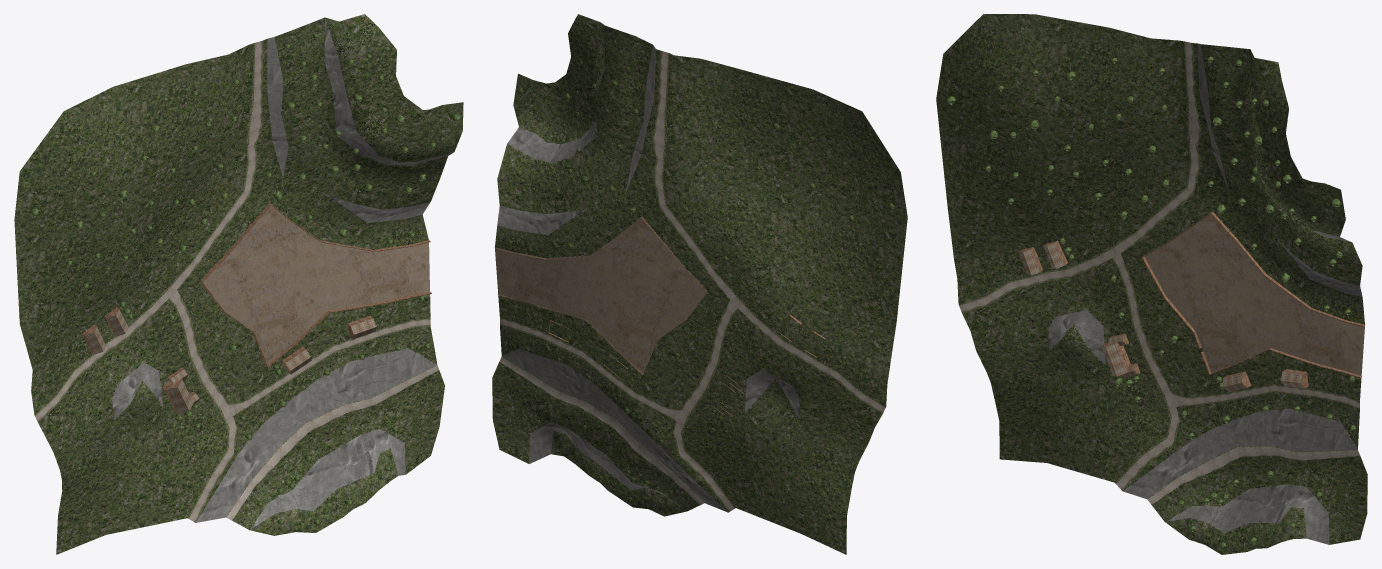
File: landscape.glb
3 renders of one model, left to right at view 1: azimuth 30°, elevation 25°; view 2: azimuth 150°, elevation 25°; view 3: azimuth 330°, elevation 25°, orthographic. The views are drawn at different scales.
Visible parts, largest first — view 1: Ground, Cube, HouseA.006; view 2: Ground; view 3: Ground, Cube, HouseA.006.
Part boxes in pixels (<box>): Ground: <box>14,14,463,554</box>; Cube: <box>200,203,431,367</box>; HouseA.006: <box>163,379,193,413</box>; Ground: <box>492,14,907,554</box>; Ground: <box>936,14,1367,554</box>; Cube: <box>1141,212,1364,377</box>; HouseA.006: <box>1101,342,1130,376</box>.
Size of what is drawn, in the model's own units: 195 by 217 by 30.03.
8 materials, 8 textured.
